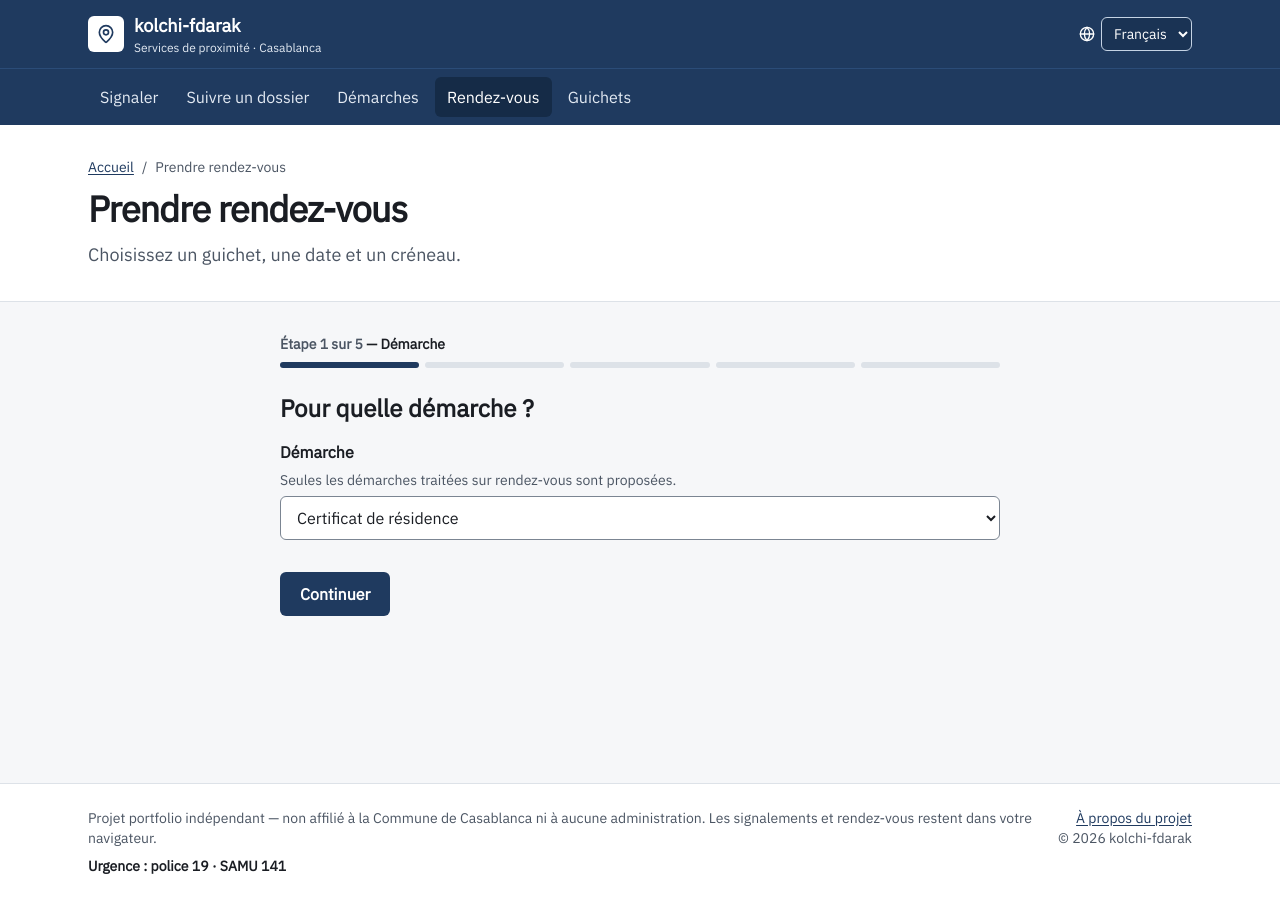
Test: prise de rendez-vous › ne présélectionne pas un guichet qui ne traite pas la démarche
Click the button "Continuer" at (335, 594), box [280,572,390,616]
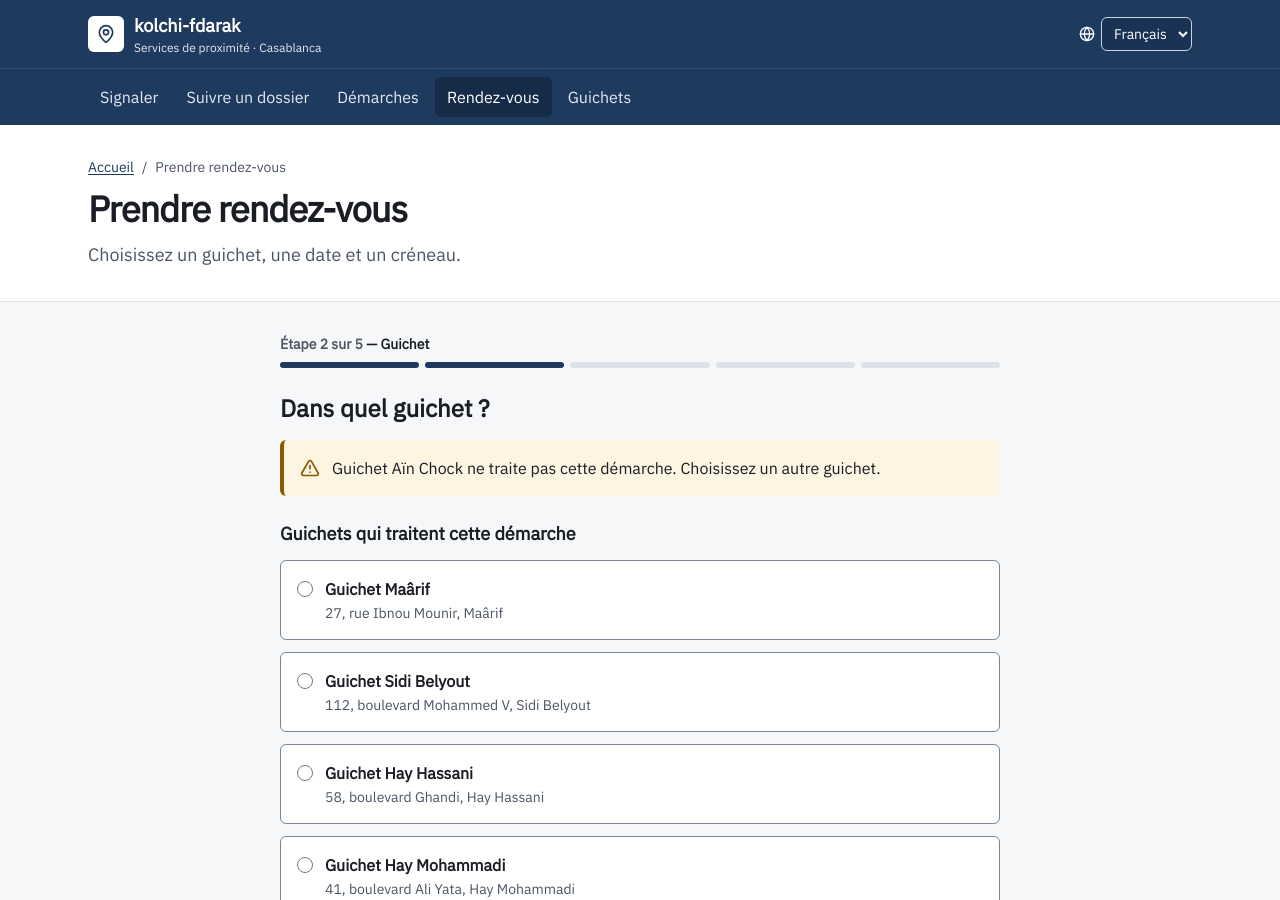
Result: the text "Guichet Aïn Chock ne traite pas cette démarche" is shown at [332,458,880,478]
